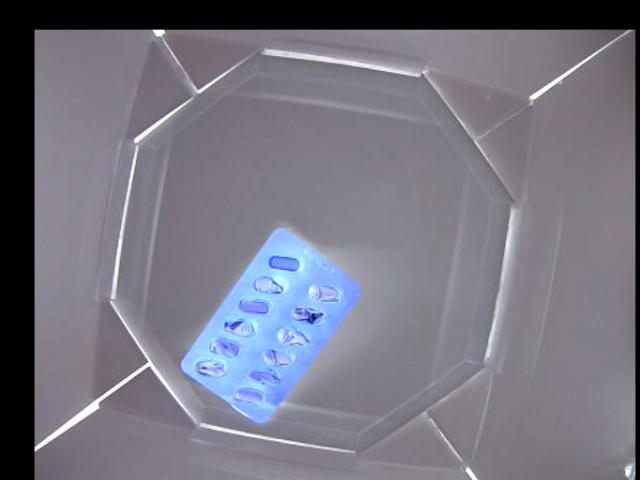Medicine: (179, 226, 359, 424)
